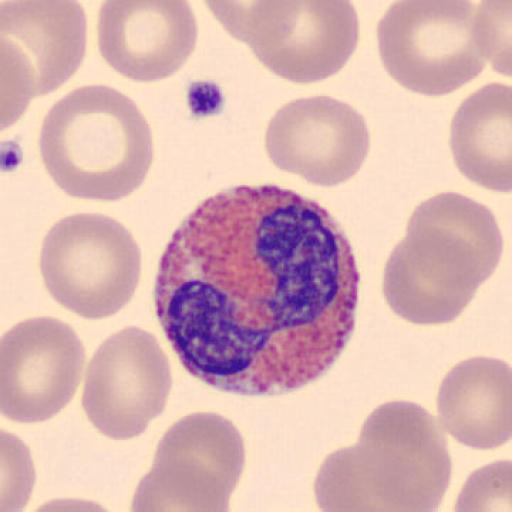RBC: (38, 81, 156, 204), (36, 208, 143, 322), (374, 0, 488, 99), (355, 398, 453, 510), (81, 324, 174, 442), (263, 92, 373, 188), (246, 0, 361, 86), (382, 229, 480, 327), (403, 189, 504, 284), (1, 314, 87, 425), (150, 410, 248, 504), (96, 0, 200, 85), (2, 1, 89, 98), (312, 441, 426, 512), (435, 353, 512, 451), (448, 81, 512, 194), (128, 462, 231, 512), (201, 0, 302, 45), (1, 34, 36, 132), (452, 457, 512, 512), (472, 0, 512, 79), (1, 426, 37, 512), (247, 0, 306, 38), (18, 493, 126, 512)
WBC: (152, 182, 364, 398)
